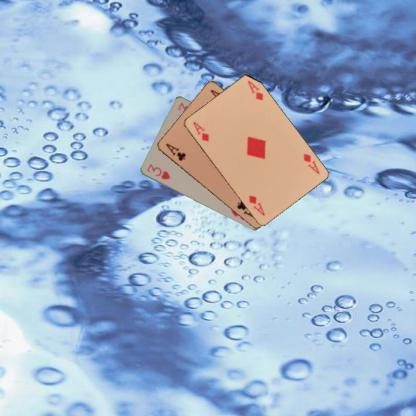3h: (144, 161, 171, 181)
Ac: (163, 141, 187, 162)
Ad: (190, 119, 210, 143), (300, 151, 320, 175)
